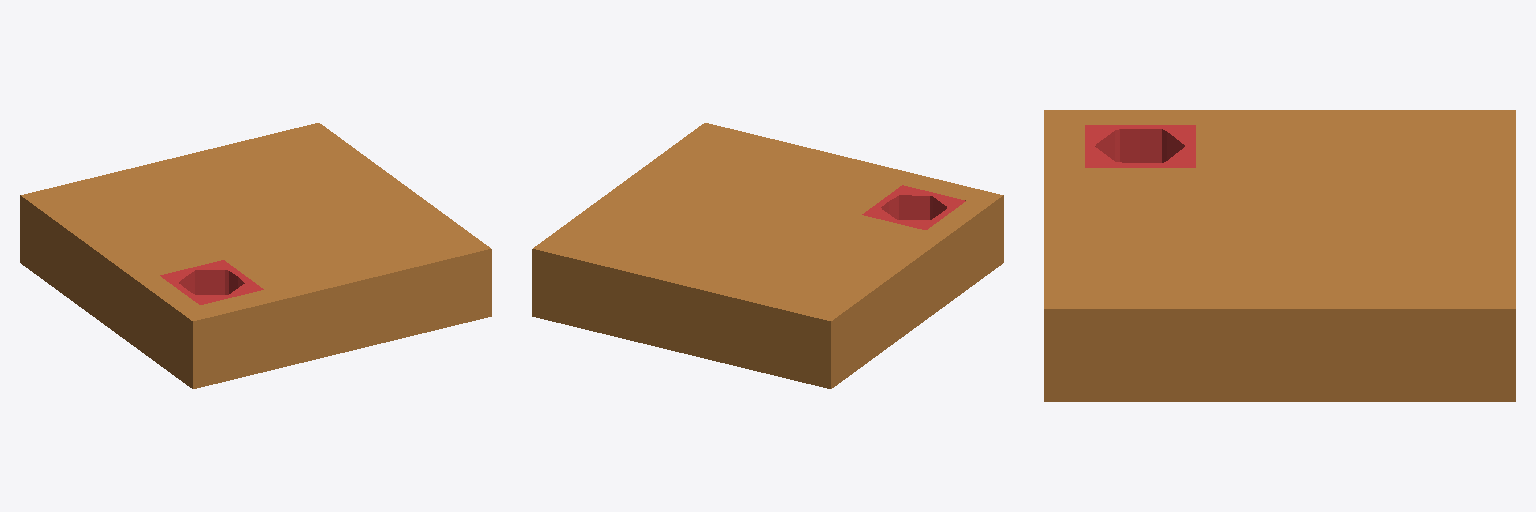
URDF robot description (fixture_peg_board_1_peg_53):
<?xml version="1.0" encoding="utf-8"?>
<robot name="fixture_peg_board_1_peg_53">
  <link name="plate">
    <visual>
      <origin xyz="0.000000 0.037002 0.025000" rpy="0.000000 0.000000 0.000000"/>
      <geometry>
        <box size="0.230000 0.155995 0.050000"/>
      </geometry>
      <material name="bulk"/>
    </visual>
    <collision>
      <origin xyz="0.000000 0.037002 0.025000" rpy="0.000000 0.000000 0.000000"/>
      <geometry>
        <box size="0.230000 0.155995 0.050000"/>
      </geometry>
    </collision>
    <visual>
      <origin xyz="0.000000 -0.105148 0.025000" rpy="0.000000 0.000000 0.000000"/>
      <geometry>
        <box size="0.230000 0.019704 0.050000"/>
      </geometry>
      <material name="bulk"/>
    </visual>
    <collision>
      <origin xyz="0.000000 -0.105148 0.025000" rpy="0.000000 0.000000 0.000000"/>
      <geometry>
        <box size="0.230000 0.019704 0.050000"/>
      </geometry>
    </collision>
    <visual>
      <origin xyz="-0.106539 -0.068146 0.025000" rpy="0.000000 0.000000 0.000000"/>
      <geometry>
        <box size="0.016923 0.054301 0.050000"/>
      </geometry>
      <material name="bulk"/>
    </visual>
    <collision>
      <origin xyz="-0.106539 -0.068146 0.025000" rpy="0.000000 0.000000 0.000000"/>
      <geometry>
        <box size="0.016923 0.054301 0.050000"/>
      </geometry>
    </collision>
    <visual>
      <origin xyz="0.033252 -0.068146 0.025000" rpy="0.000000 0.000000 0.000000"/>
      <geometry>
        <box size="0.163496 0.054301 0.050000"/>
      </geometry>
      <material name="bulk"/>
    </visual>
    <collision>
      <origin xyz="0.033252 -0.068146 0.025000" rpy="0.000000 0.000000 0.000000"/>
      <geometry>
        <box size="0.163496 0.054301 0.050000"/>
      </geometry>
    </collision>
    <visual>
      <origin xyz="0.000000 0.000000 0.000000" rpy="0.000000 0.000000 0.000000"/>
      <geometry>
        <mesh filename="../hole_patches/hole_2_coacd/decomp_0.obj" scale="1 1 1"/>
      </geometry>
      <material name="hole_2"/>
    </visual>
    <collision>
      <origin xyz="0.000000 0.000000 0.000000" rpy="0.000000 0.000000 0.000000"/>
      <geometry>
        <mesh filename="../hole_patches/hole_2_coacd/decomp_0.obj" scale="1 1 1"/>
      </geometry>
    </collision>
    <visual>
      <origin xyz="0.000000 0.000000 0.000000" rpy="0.000000 0.000000 0.000000"/>
      <geometry>
        <mesh filename="../hole_patches/hole_2_coacd/decomp_1.obj" scale="1 1 1"/>
      </geometry>
      <material name="hole_2"/>
    </visual>
    <collision>
      <origin xyz="0.000000 0.000000 0.000000" rpy="0.000000 0.000000 0.000000"/>
      <geometry>
        <mesh filename="../hole_patches/hole_2_coacd/decomp_1.obj" scale="1 1 1"/>
      </geometry>
    </collision>
    <visual>
      <origin xyz="0.000000 0.000000 0.000000" rpy="0.000000 0.000000 0.000000"/>
      <geometry>
        <mesh filename="../hole_patches/hole_2_coacd/decomp_10.obj" scale="1 1 1"/>
      </geometry>
      <material name="hole_2"/>
    </visual>
    <collision>
      <origin xyz="0.000000 0.000000 0.000000" rpy="0.000000 0.000000 0.000000"/>
      <geometry>
        <mesh filename="../hole_patches/hole_2_coacd/decomp_10.obj" scale="1 1 1"/>
      </geometry>
    </collision>
    <visual>
      <origin xyz="0.000000 0.000000 0.000000" rpy="0.000000 0.000000 0.000000"/>
      <geometry>
        <mesh filename="../hole_patches/hole_2_coacd/decomp_11.obj" scale="1 1 1"/>
      </geometry>
      <material name="hole_2"/>
    </visual>
    <collision>
      <origin xyz="0.000000 0.000000 0.000000" rpy="0.000000 0.000000 0.000000"/>
      <geometry>
        <mesh filename="../hole_patches/hole_2_coacd/decomp_11.obj" scale="1 1 1"/>
      </geometry>
    </collision>
    <visual>
      <origin xyz="0.000000 0.000000 0.000000" rpy="0.000000 0.000000 0.000000"/>
      <geometry>
        <mesh filename="../hole_patches/hole_2_coacd/decomp_2.obj" scale="1 1 1"/>
      </geometry>
      <material name="hole_2"/>
    </visual>
    <collision>
      <origin xyz="0.000000 0.000000 0.000000" rpy="0.000000 0.000000 0.000000"/>
      <geometry>
        <mesh filename="../hole_patches/hole_2_coacd/decomp_2.obj" scale="1 1 1"/>
      </geometry>
    </collision>
    <visual>
      <origin xyz="0.000000 0.000000 0.000000" rpy="0.000000 0.000000 0.000000"/>
      <geometry>
        <mesh filename="../hole_patches/hole_2_coacd/decomp_3.obj" scale="1 1 1"/>
      </geometry>
      <material name="hole_2"/>
    </visual>
    <collision>
      <origin xyz="0.000000 0.000000 0.000000" rpy="0.000000 0.000000 0.000000"/>
      <geometry>
        <mesh filename="../hole_patches/hole_2_coacd/decomp_3.obj" scale="1 1 1"/>
      </geometry>
    </collision>
    <visual>
      <origin xyz="0.000000 0.000000 0.000000" rpy="0.000000 0.000000 0.000000"/>
      <geometry>
        <mesh filename="../hole_patches/hole_2_coacd/decomp_4.obj" scale="1 1 1"/>
      </geometry>
      <material name="hole_2"/>
    </visual>
    <collision>
      <origin xyz="0.000000 0.000000 0.000000" rpy="0.000000 0.000000 0.000000"/>
      <geometry>
        <mesh filename="../hole_patches/hole_2_coacd/decomp_4.obj" scale="1 1 1"/>
      </geometry>
    </collision>
    <visual>
      <origin xyz="0.000000 0.000000 0.000000" rpy="0.000000 0.000000 0.000000"/>
      <geometry>
        <mesh filename="../hole_patches/hole_2_coacd/decomp_5.obj" scale="1 1 1"/>
      </geometry>
      <material name="hole_2"/>
    </visual>
    <collision>
      <origin xyz="0.000000 0.000000 0.000000" rpy="0.000000 0.000000 0.000000"/>
      <geometry>
        <mesh filename="../hole_patches/hole_2_coacd/decomp_5.obj" scale="1 1 1"/>
      </geometry>
    </collision>
    <visual>
      <origin xyz="0.000000 0.000000 0.000000" rpy="0.000000 0.000000 0.000000"/>
      <geometry>
        <mesh filename="../hole_patches/hole_2_coacd/decomp_6.obj" scale="1 1 1"/>
      </geometry>
      <material name="hole_2"/>
    </visual>
    <collision>
      <origin xyz="0.000000 0.000000 0.000000" rpy="0.000000 0.000000 0.000000"/>
      <geometry>
        <mesh filename="../hole_patches/hole_2_coacd/decomp_6.obj" scale="1 1 1"/>
      </geometry>
    </collision>
    <visual>
      <origin xyz="0.000000 0.000000 0.000000" rpy="0.000000 0.000000 0.000000"/>
      <geometry>
        <mesh filename="../hole_patches/hole_2_coacd/decomp_7.obj" scale="1 1 1"/>
      </geometry>
      <material name="hole_2"/>
    </visual>
    <collision>
      <origin xyz="0.000000 0.000000 0.000000" rpy="0.000000 0.000000 0.000000"/>
      <geometry>
        <mesh filename="../hole_patches/hole_2_coacd/decomp_7.obj" scale="1 1 1"/>
      </geometry>
    </collision>
    <visual>
      <origin xyz="0.000000 0.000000 0.000000" rpy="0.000000 0.000000 0.000000"/>
      <geometry>
        <mesh filename="../hole_patches/hole_2_coacd/decomp_8.obj" scale="1 1 1"/>
      </geometry>
      <material name="hole_2"/>
    </visual>
    <collision>
      <origin xyz="0.000000 0.000000 0.000000" rpy="0.000000 0.000000 0.000000"/>
      <geometry>
        <mesh filename="../hole_patches/hole_2_coacd/decomp_8.obj" scale="1 1 1"/>
      </geometry>
    </collision>
    <visual>
      <origin xyz="0.000000 0.000000 0.000000" rpy="0.000000 0.000000 0.000000"/>
      <geometry>
        <mesh filename="../hole_patches/hole_2_coacd/decomp_9.obj" scale="1 1 1"/>
      </geometry>
      <material name="hole_2"/>
    </visual>
    <collision>
      <origin xyz="0.000000 0.000000 0.000000" rpy="0.000000 0.000000 0.000000"/>
      <geometry>
        <mesh filename="../hole_patches/hole_2_coacd/decomp_9.obj" scale="1 1 1"/>
      </geometry>
    </collision>
  </link>
  <material name="bulk">
    <color rgba="0.7800 0.5500 0.3000 1.0000"/>
  </material>
  <material name="hole_2">
    <color rgba="0.8500 0.3000 0.3000 1.0000"/>
  </material>
</robot>

--- Facts derived from the render (not from the file) ---
Views: 3 orthographic renders of the robot side by side, from view 1: azimuth 30°, elevation 25°; view 2: azimuth 150°, elevation 25°; view 3: azimuth 270°, elevation 25°.
Model fixture_peg_board_1_peg_53 with 1 links and 0 joints (none), rooted at plate, posed every joint at zero.
Visible links, largest first — view 1: plate; view 2: plate; view 3: plate.
Link boxes in pixels (bbox=[...]): plate: bbox=[20, 123, 491, 388]; plate: bbox=[532, 123, 1003, 388]; plate: bbox=[1044, 110, 1515, 401].
Size in the robot's own frame: 0.23 by 0.23 by 0.05 metres.
Meshes: 12 distinct files referenced, 12 mesh visuals loaded (12 OBJ).
